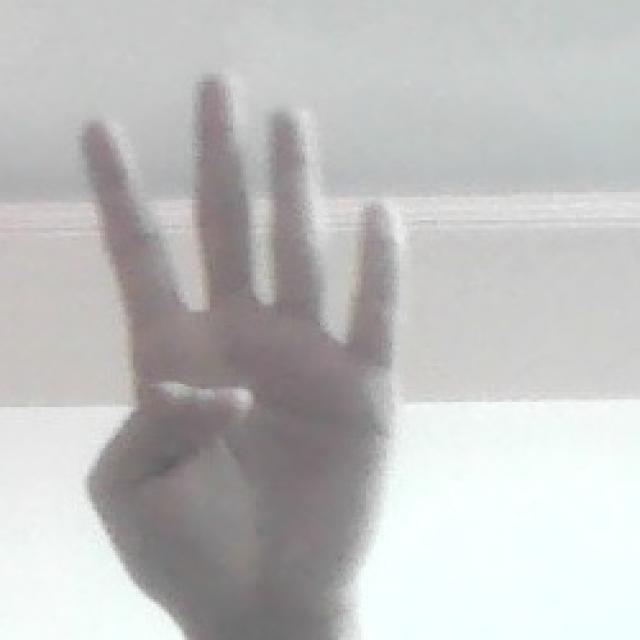Numeric-4: (79, 76, 397, 627)
